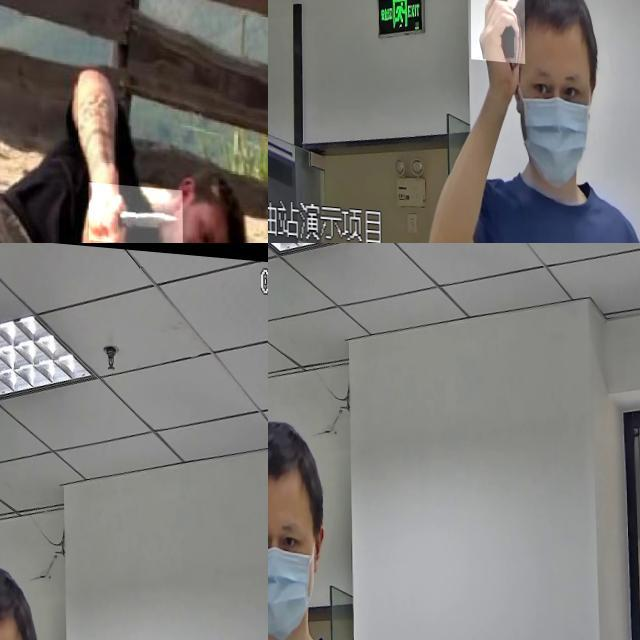-: (88, 176, 183, 240)
gun-knife-thesis - v11 Yolov5 augmented: (268, 287, 303, 472), (469, 0, 524, 86), (0, 465, 23, 640)
